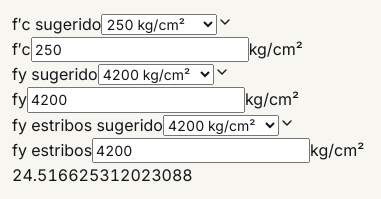
Scenario: MaterialFields › aplica un valor sugerido al campo numérico editable y conserva su conversión al motor
Step 1. Select "300 kg/cm²" in the dropdown labelled "f′c sugerido" → (159, 24), box [101, 14, 217, 35]
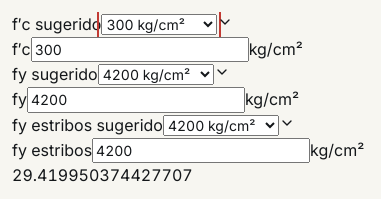
Check: the field labelled "f′c" holds "300", box [31, 37, 249, 62]
Step 2. Select "5000 kg/cm²" in the dropdown labelled "fy estribos sugerido" → (221, 125), box [163, 115, 279, 136]
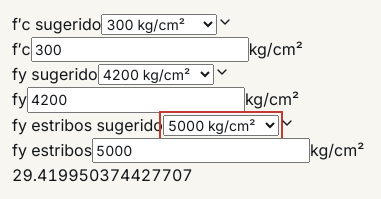
Check: the field labelled "fy estribos" holds "5000", box [92, 138, 310, 163]
